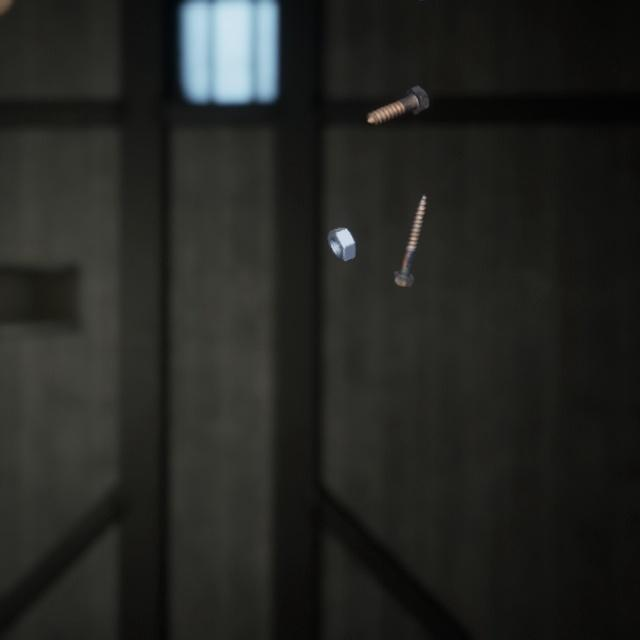bolt: (387, 175, 430, 276), (362, 70, 433, 119)
nut: (325, 207, 362, 249)
